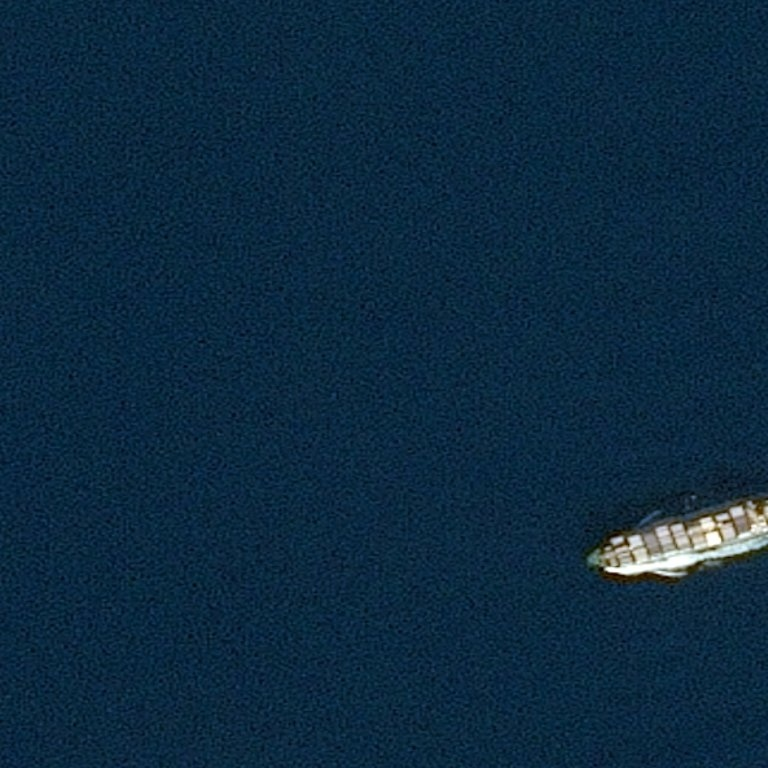ship: (587, 498, 767, 567)
